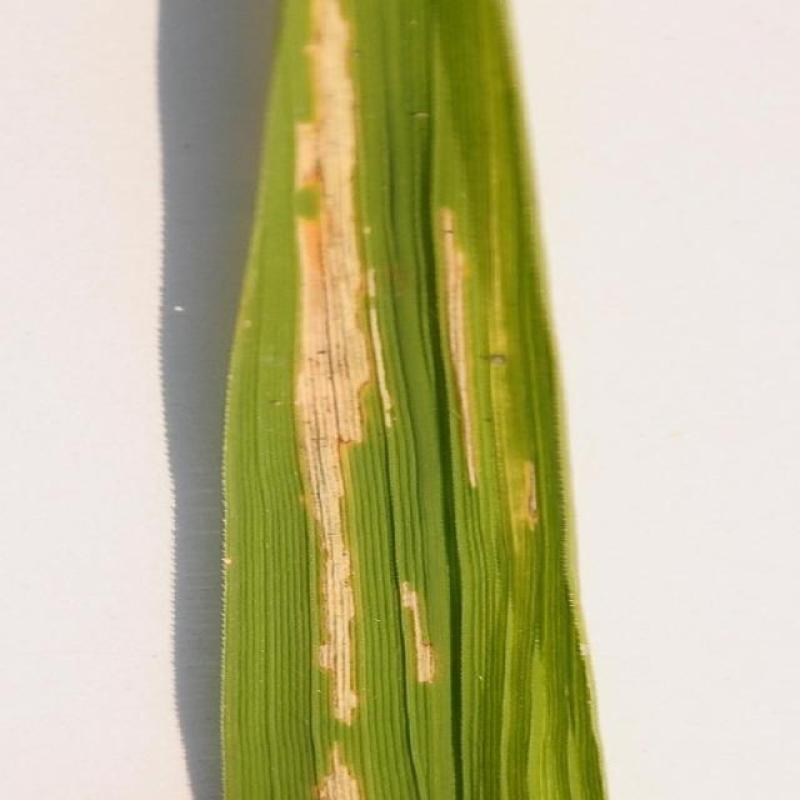Bacterial_Leaf_Blight: (270, 0, 380, 800), (414, 194, 558, 551), (385, 565, 459, 714)
